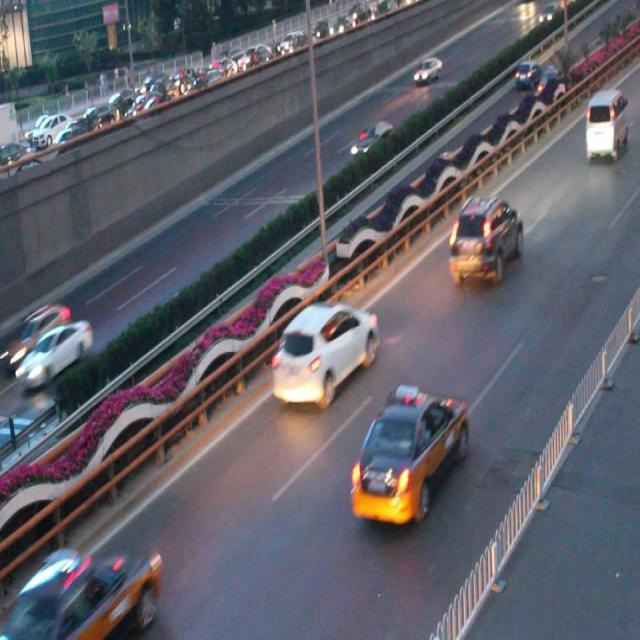car: (348, 384, 466, 524), (15, 551, 162, 640), (273, 303, 379, 407), (449, 196, 522, 286), (22, 319, 94, 385), (13, 304, 70, 363), (349, 119, 392, 158), (411, 56, 440, 85)
truck: (583, 90, 627, 160)
